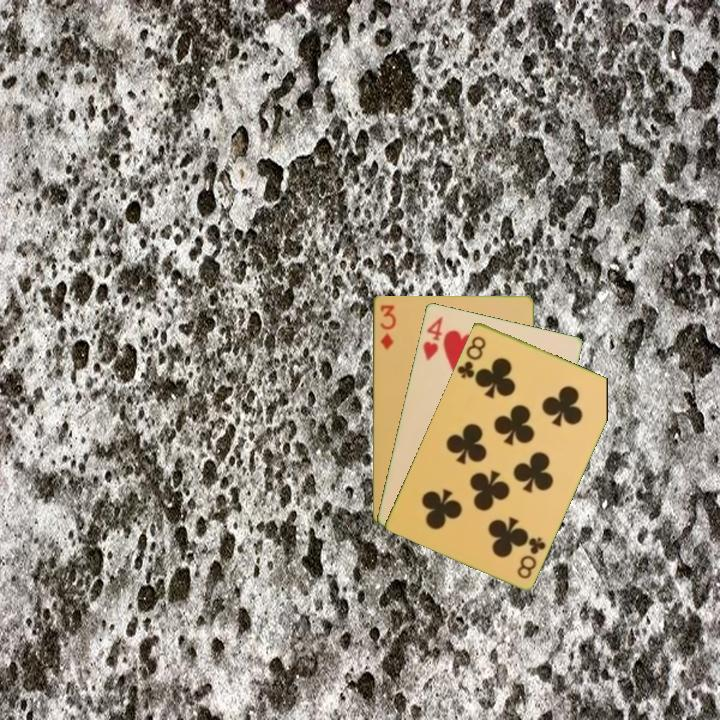3d: (376, 301, 398, 352)
4h: (419, 313, 445, 363)
8c: (454, 332, 489, 383), (513, 533, 549, 581)
